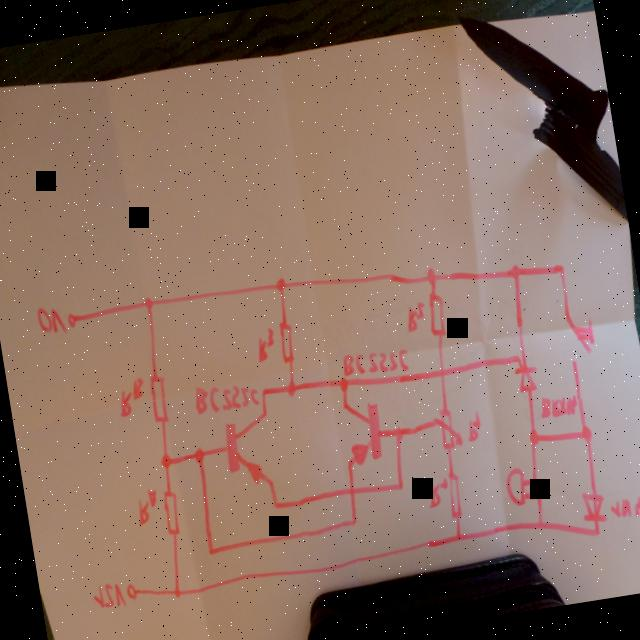crossover: (434, 363, 449, 381), (346, 484, 358, 498)
diode: (578, 490, 608, 525)
junction: (578, 424, 593, 446), (190, 445, 206, 465), (156, 452, 172, 472), (422, 266, 438, 286), (283, 379, 298, 399), (525, 428, 540, 448), (506, 263, 522, 281), (272, 276, 288, 294), (336, 376, 350, 394), (391, 425, 403, 442), (553, 262, 565, 278), (590, 524, 602, 540), (170, 586, 182, 600), (142, 296, 154, 310), (270, 498, 280, 514), (257, 386, 269, 399), (205, 545, 216, 558), (534, 518, 545, 531), (529, 476, 540, 489), (532, 492, 543, 504), (452, 531, 462, 544), (394, 480, 404, 492), (348, 516, 358, 528)
resistor: (431, 407, 463, 453), (145, 374, 171, 426), (159, 489, 182, 539), (442, 472, 464, 522), (424, 293, 447, 340), (274, 321, 296, 365)
switch: (562, 312, 597, 364)
terminal: (64, 310, 79, 330), (124, 583, 138, 603)
text: (191, 378, 259, 416), (339, 345, 410, 381), (114, 376, 148, 418), (536, 392, 578, 422), (132, 487, 161, 527), (90, 580, 126, 612), (34, 304, 66, 338), (607, 489, 640, 521), (251, 326, 278, 364), (423, 476, 451, 510), (401, 300, 428, 334), (462, 410, 483, 444)
thyristor: (510, 351, 541, 396)
transistor: (218, 411, 278, 492), (336, 398, 386, 468)
